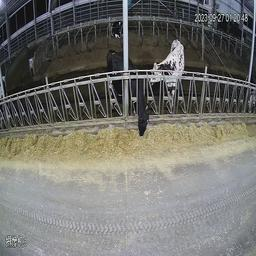cow: (106, 48, 151, 138), (142, 37, 183, 89), (111, 21, 123, 40)
